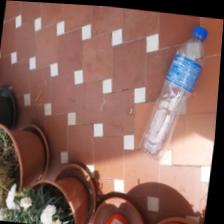glass: (0, 86, 63, 223)
plastic: (136, 14, 221, 153)
